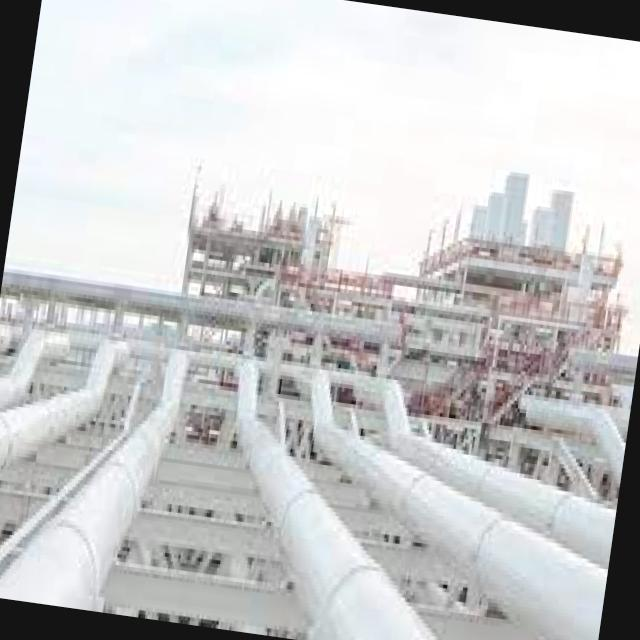gas: (315, 377, 608, 640), (238, 363, 435, 640), (0, 353, 186, 612), (386, 434, 616, 569), (0, 341, 128, 468), (0, 330, 46, 411), (46, 335, 69, 358)
